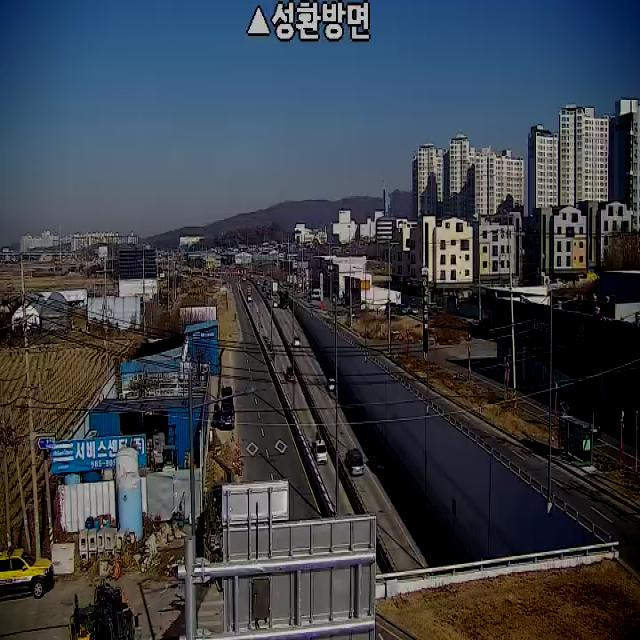Car: (0, 546, 55, 601), (569, 411, 601, 441), (346, 448, 364, 476), (368, 453, 388, 473), (327, 377, 336, 392), (248, 293, 252, 302)
Truck: (222, 385, 235, 429), (312, 439, 328, 465)
